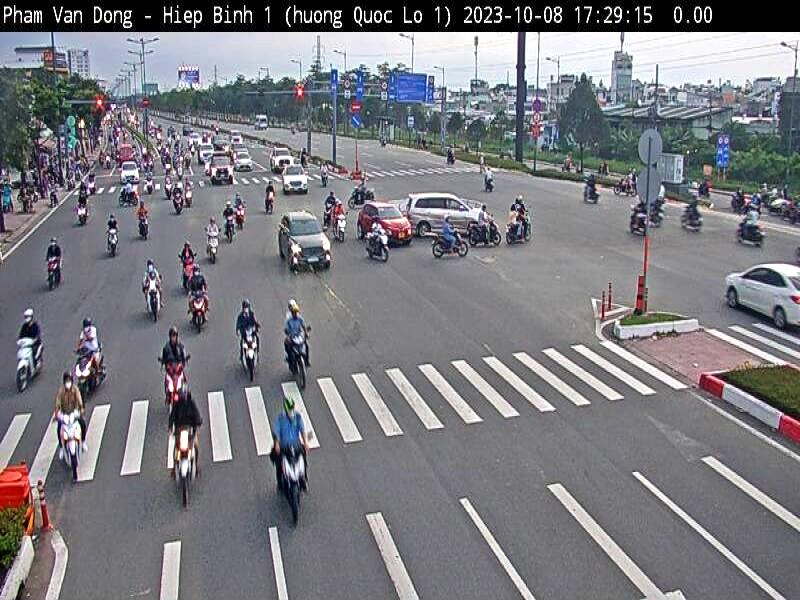car: (724, 251, 800, 331), (398, 189, 492, 244), (274, 212, 332, 278), (354, 195, 405, 248), (281, 164, 310, 195), (208, 155, 233, 187), (267, 146, 292, 170), (231, 148, 253, 172)
motorcycle: (278, 442, 316, 523), (52, 405, 88, 483), (174, 420, 201, 507), (12, 334, 46, 394), (69, 349, 109, 398), (281, 329, 315, 384), (234, 320, 262, 384), (157, 354, 187, 412), (184, 290, 214, 331), (143, 284, 168, 324), (176, 255, 200, 292), (201, 230, 227, 263), (43, 255, 66, 290), (104, 228, 123, 257), (226, 218, 241, 247), (262, 195, 280, 217), (137, 217, 153, 239), (172, 197, 188, 215)
